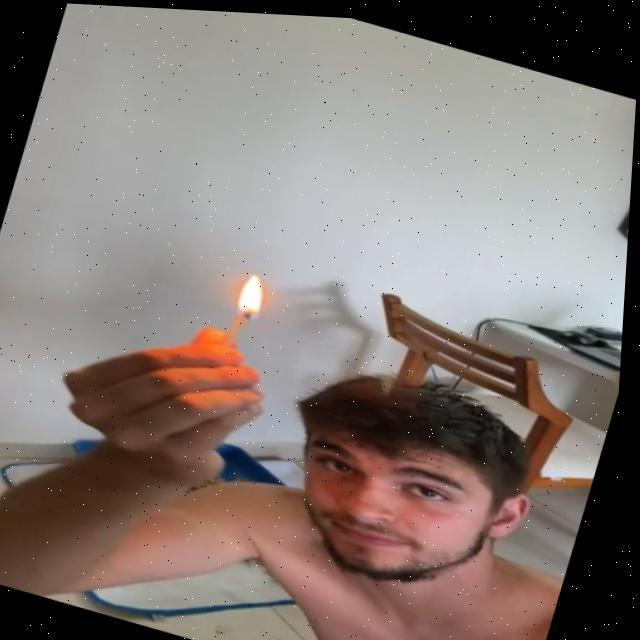fire: (234, 264, 274, 320)
